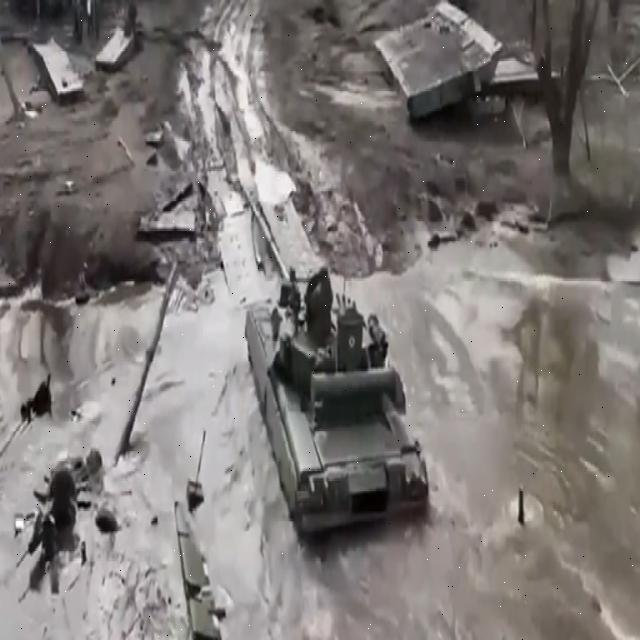TANK: (237, 182, 435, 528)
